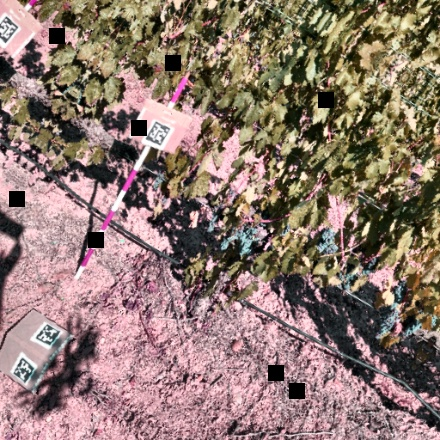QR: (34, 320, 63, 350), (145, 120, 172, 148)
